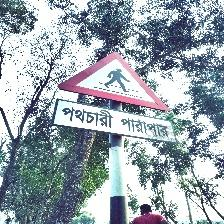Pedestrian-crossing: (53, 51, 175, 143)
